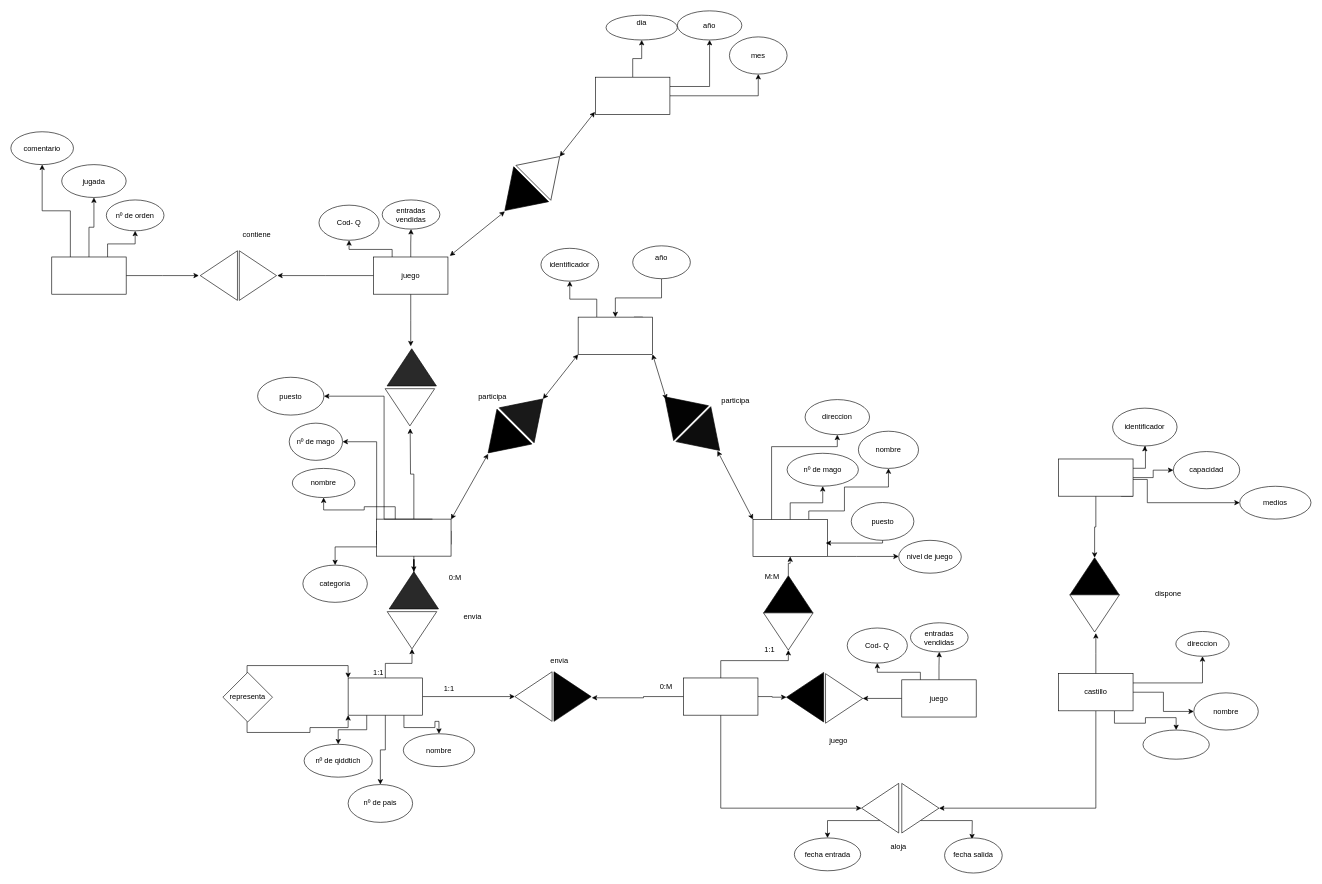
This 1322x884 diagram has some shape labels left out. Here are the shapes that lost their labels. From the top down, the centre of each, then its label:
the point at 632,95: jornada
the point at 88,275: movimiento
the point at 615,335: campeonato
the point at 1095,477: estadio
the point at 413,537: arbitro
the point at 789,537: jugador
the point at 385,696: pais
the point at 720,696: equipo
the point at 1175,744: telefono
